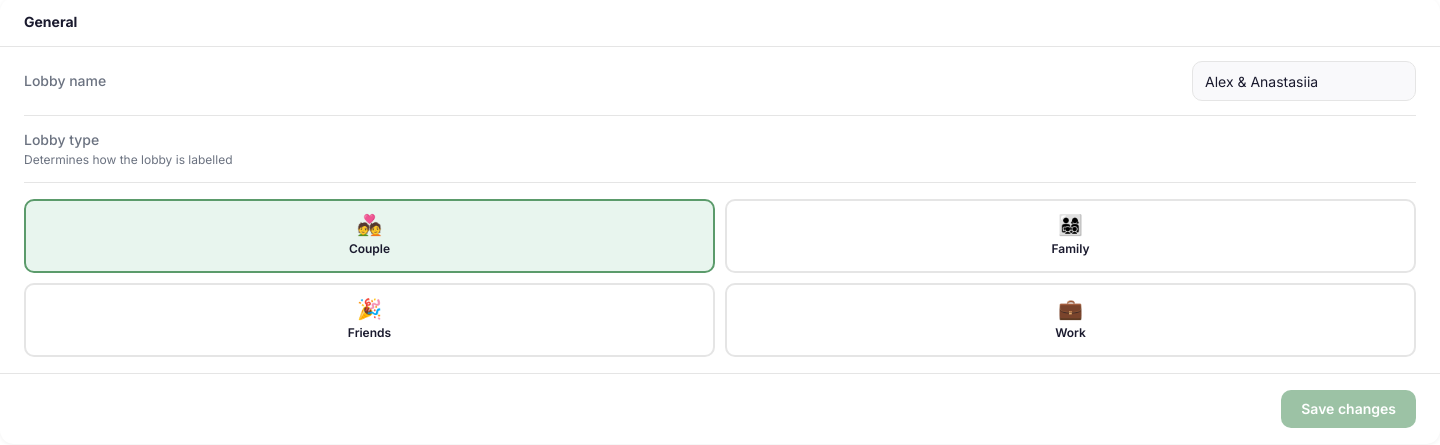
LobbyGeneralCard › keeps Save changes disabled until a field is edited
Expected: the button "Save changes" is disabled, x1=1281 y1=390 x2=1416 y2=428
In the field named "Lobby name": (1304, 81) x1=1192 y1=61 x2=1416 y2=101, type "x"
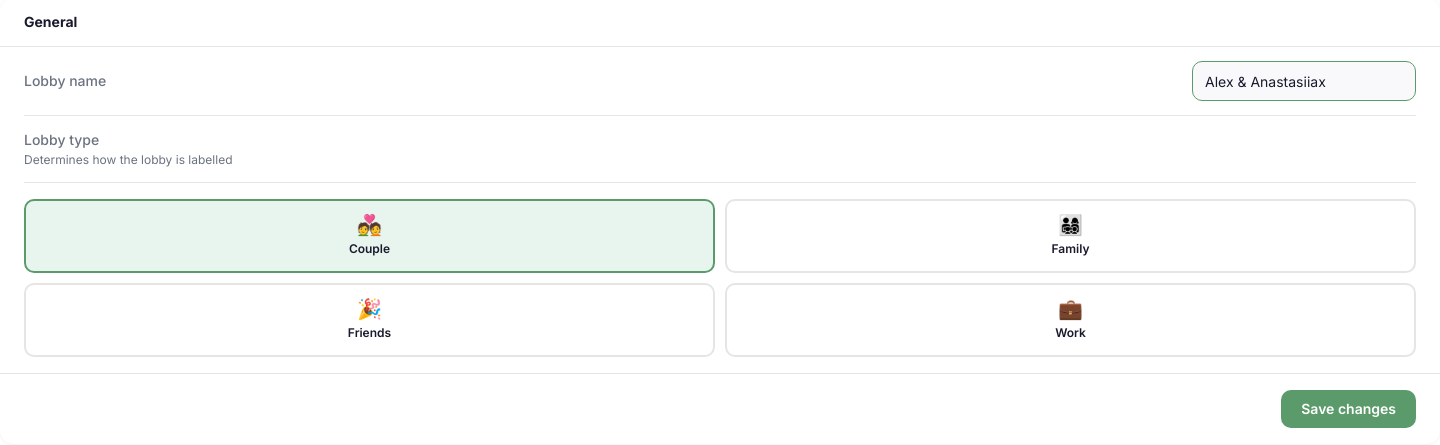
Result: the button "Save changes" is enabled at x1=1281 y1=390 x2=1416 y2=428
